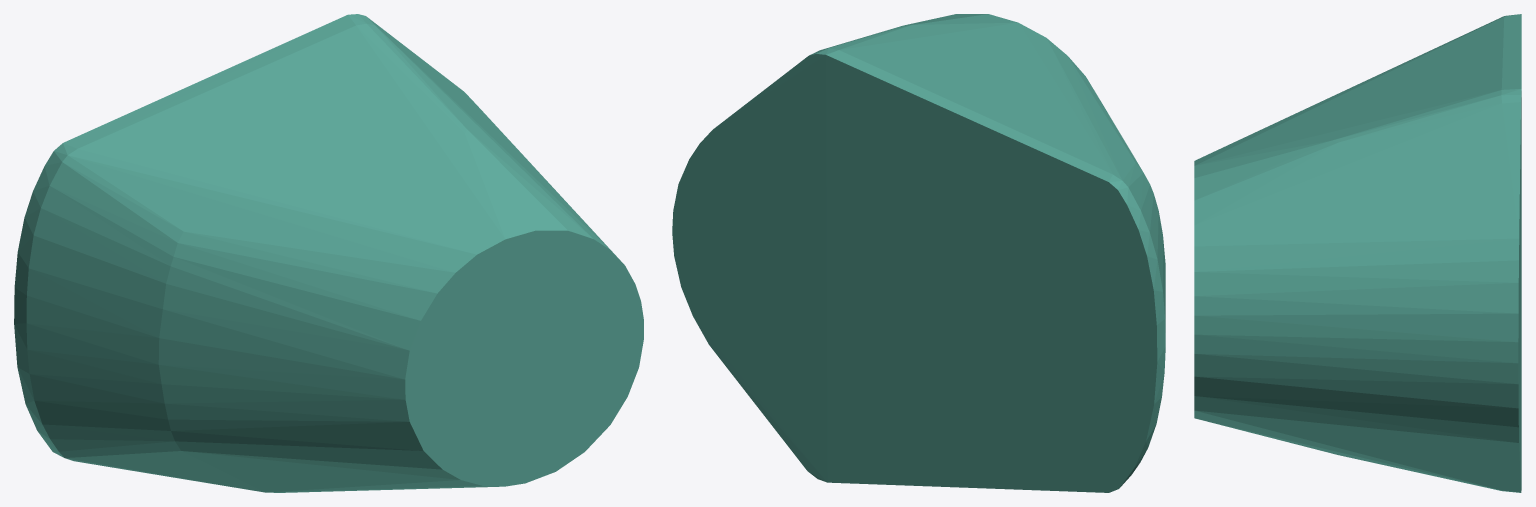
The model's file is dualpanda_robot_base_coll_1.dae.
The picture shows the model from 3 angles, left to right: view 1: azimuth 30°, elevation 25°; view 2: azimuth 150°, elevation 25°; view 3: azimuth 270°, elevation 25°; orthographic projection. The views are drawn at different scales.
Visible parts, largest first — view 1: node; view 2: node; view 3: node.
Part boxes in pixels (left/top/right/bottom): node: left=14, top=14, right=643, bottom=492; node: left=672, top=14, right=1165, bottom=492; node: left=1194, top=14, right=1521, bottom=492.
Size of the model in its own units: 0.2256 by 0.1893 by 0.14.
